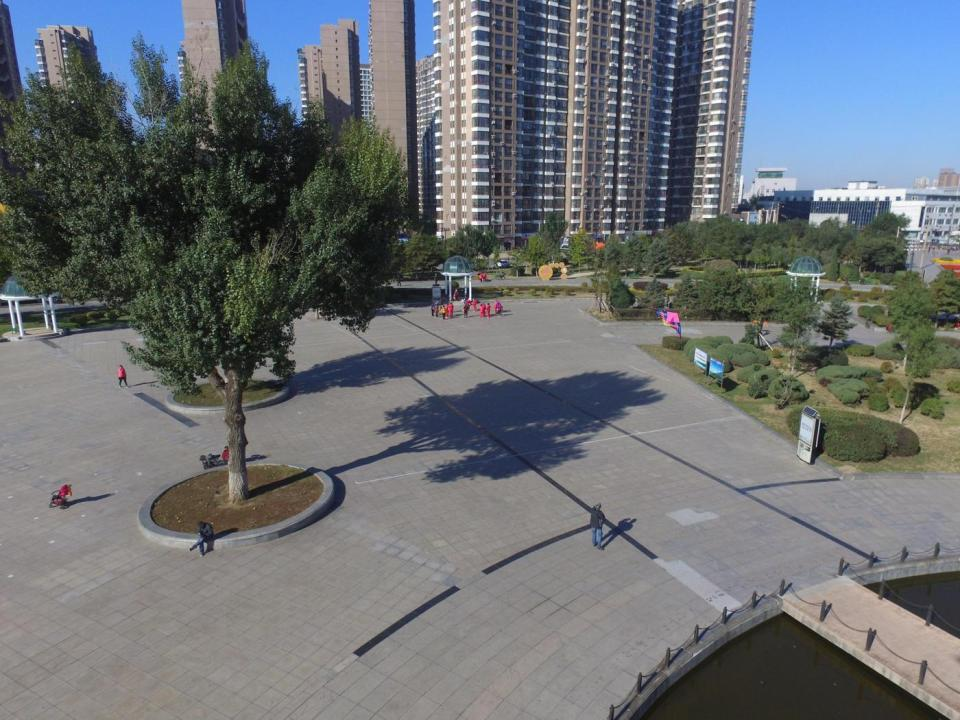car: (497, 259, 508, 267)
